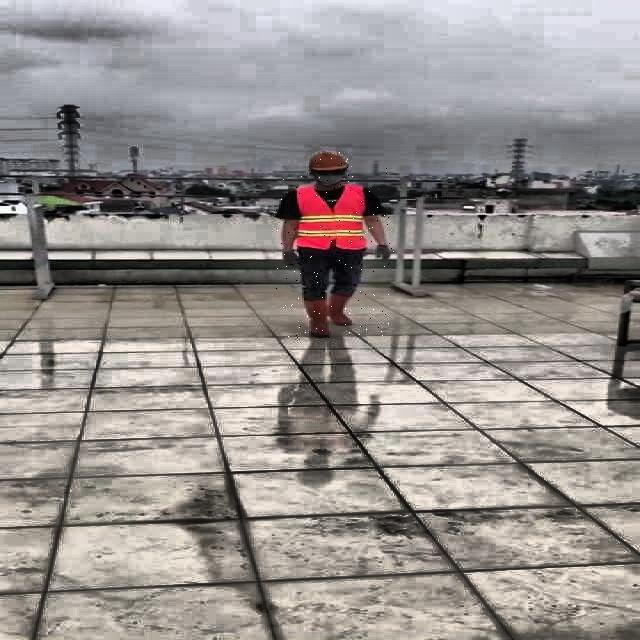safety_helmet: (307, 151, 347, 171)
safety_jacket: (295, 185, 368, 252)
